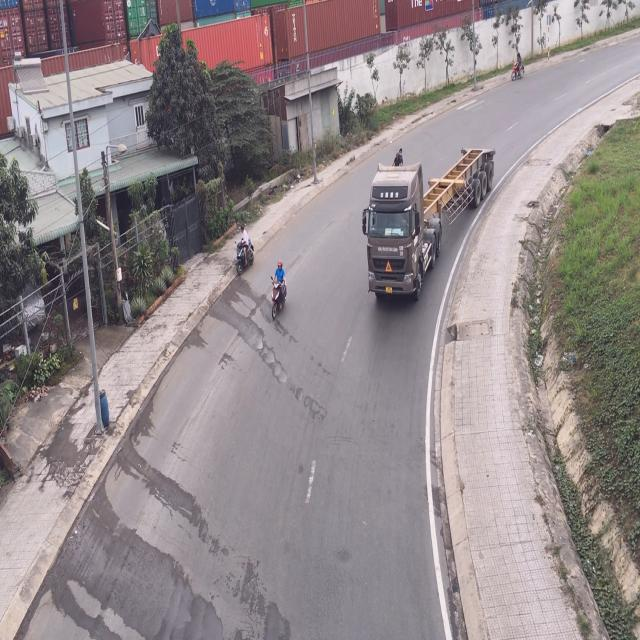motorbike: (269, 261, 288, 321), (235, 226, 257, 276), (510, 52, 524, 81)
truck: (362, 156, 496, 298)
